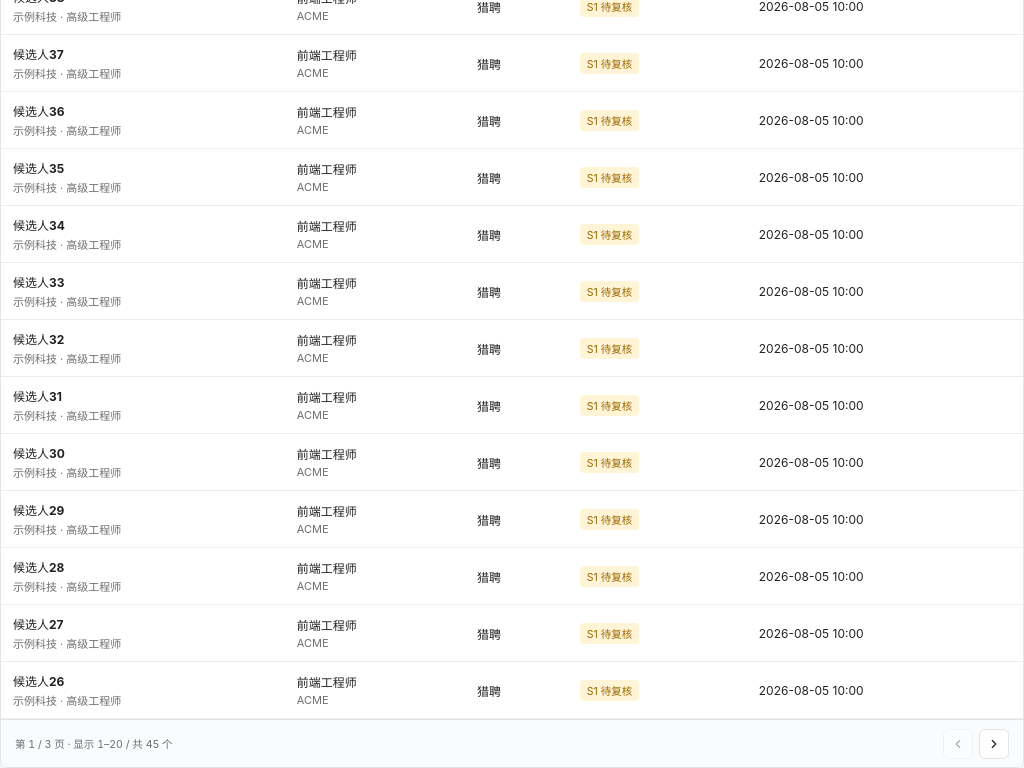
Test case: 候选人列表 Candidates › 范围切换后重置到第一页，空范围显示空态，计数联动
The image size is (1024, 768).
(page scrolled)
Click the button named "下一页" at (994, 744), box [979,728,1009,758]
(page scrolled)
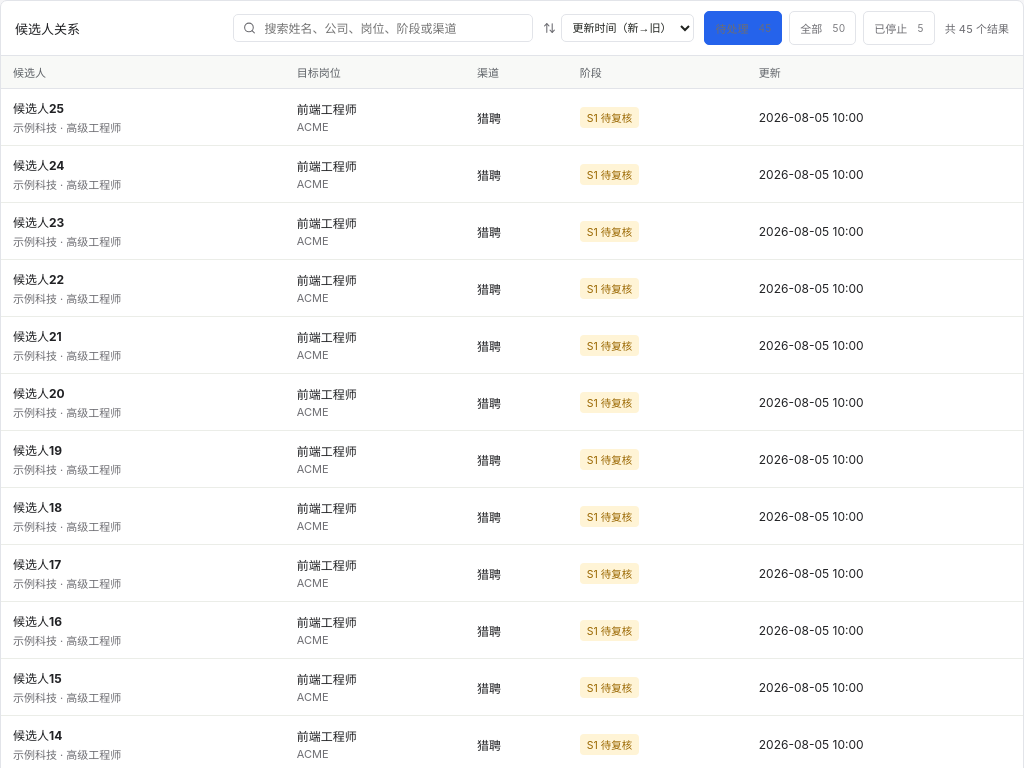
expect the text "候选人21" is shown: met, box [13,329,62,344]
Click the button "已停止 5" at (899, 28), box [863,11,935,45]
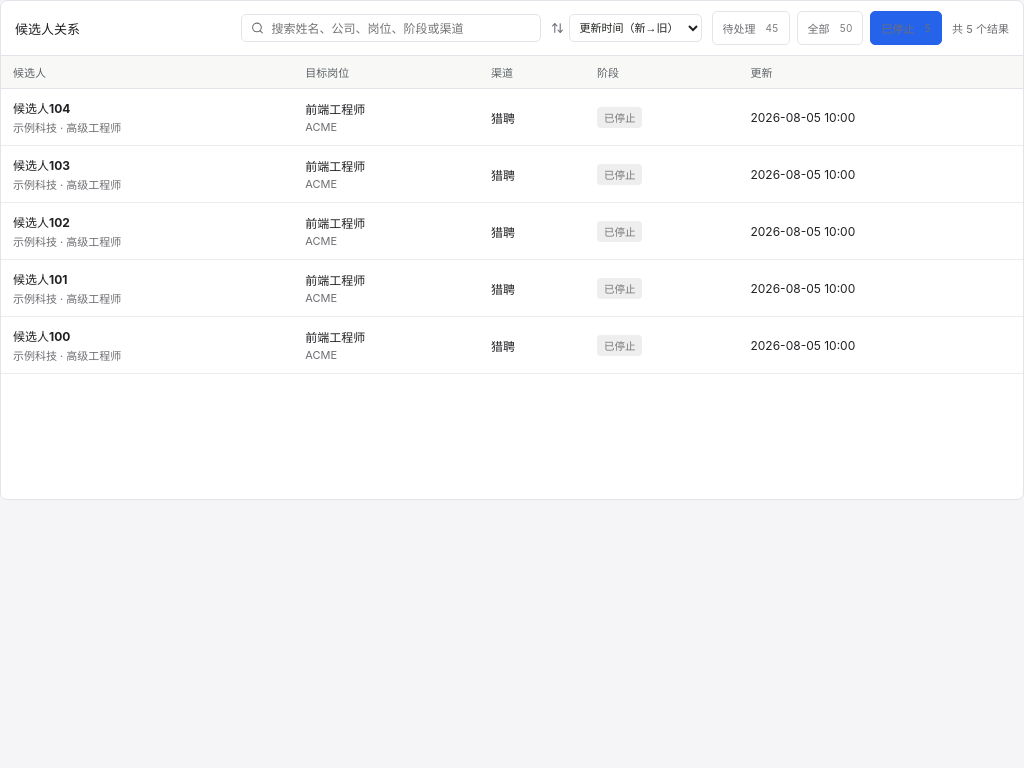
expect the message reads "共 5 个结果": met, box [952,22,1009,36]
expect the text "候选人101" is shown: met, box [13,272,68,287]
Click the button "待处理 45" at (750, 28), box [712,11,790,45]
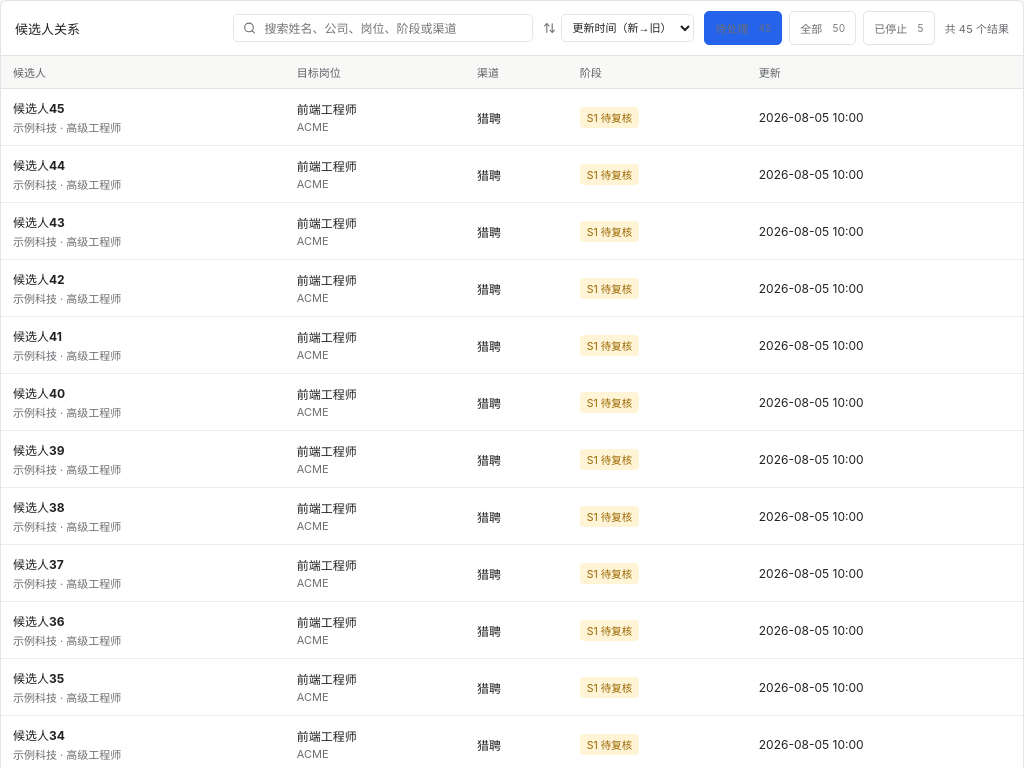
expect the text "候选人21" is not shown: met
expect the message reads "共 45 个结果": met, box [945,22,1009,36]
expect the text "候选人45" is shown: met, box [13,101,65,116]
Click the button "全部 50" at (823, 28), box [789,11,856,45]
(page scrolled)
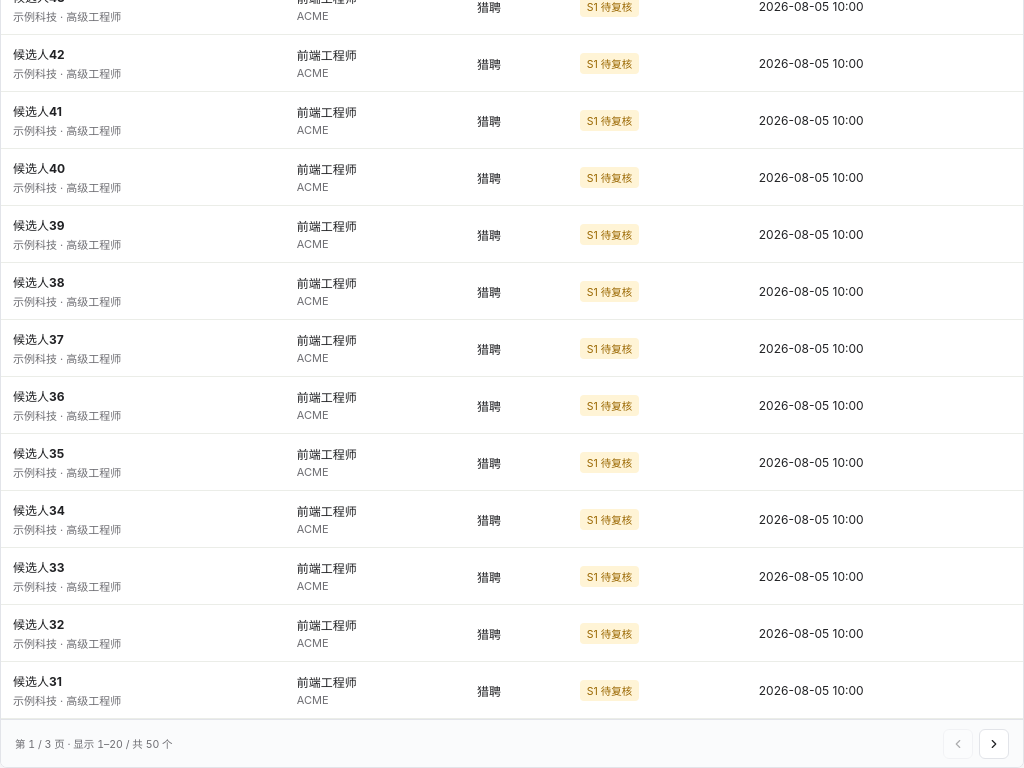
expect the text "第 1 / 3 页 · 显示 1–20 / 共 50 个" is shown: met, box [15,736,173,751]
